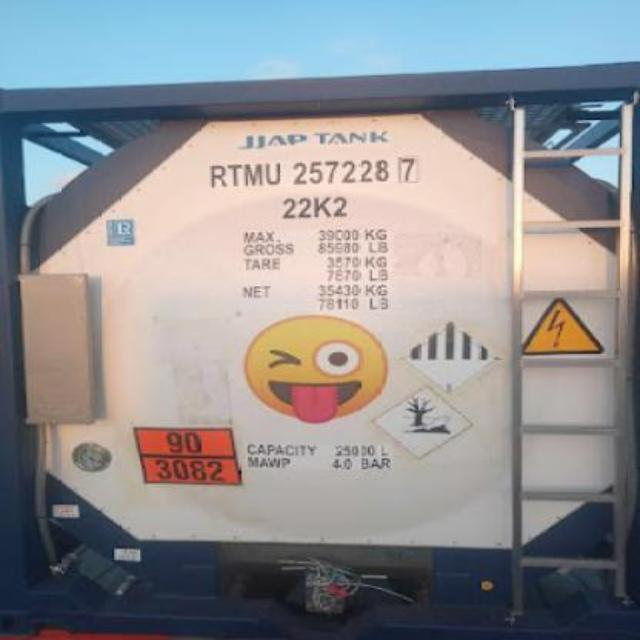2: (338, 152, 356, 188), (288, 158, 308, 188), (356, 154, 372, 186)
5: (308, 156, 322, 188)
7: (398, 152, 418, 184), (322, 156, 338, 188)
8: (372, 152, 390, 185)
M: (242, 160, 264, 188)
R: (209, 162, 225, 192)
T: (226, 160, 242, 190)
U: (265, 160, 281, 186)
